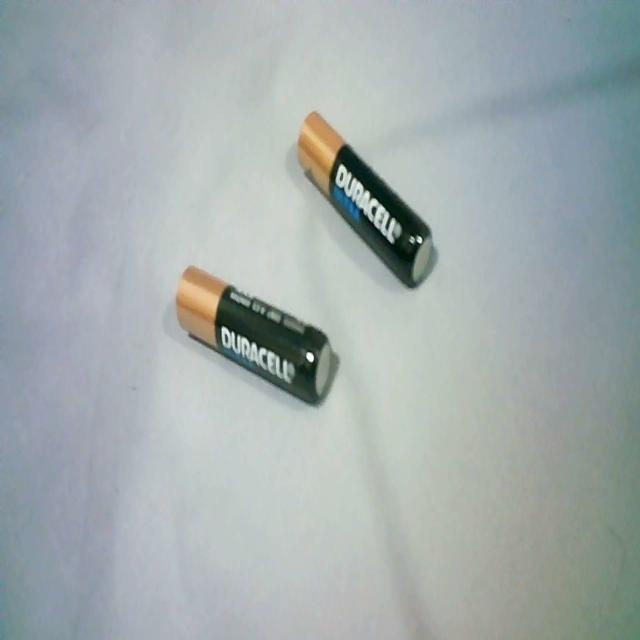AAA: (294, 106, 439, 294), (168, 259, 336, 408)
